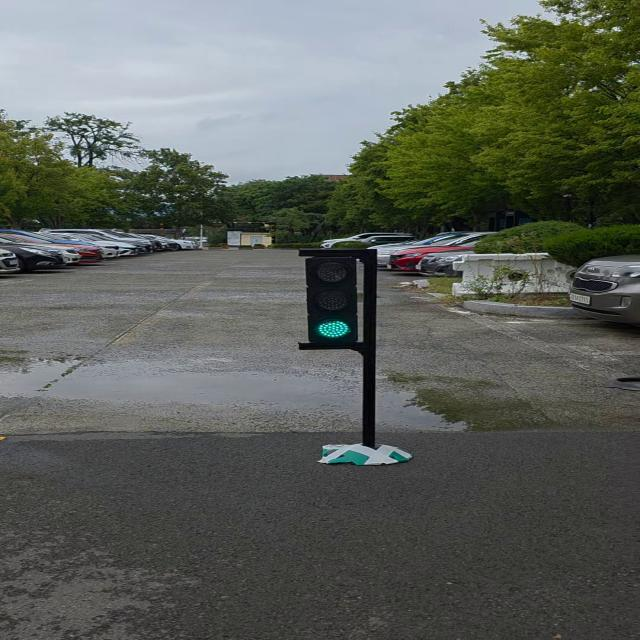green: (305, 252, 375, 349)
